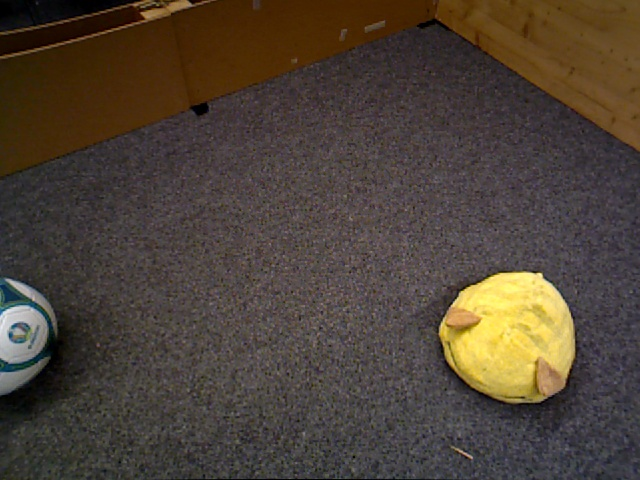grasp: (437, 268, 576, 406)
kick: (1, 278, 58, 400)
